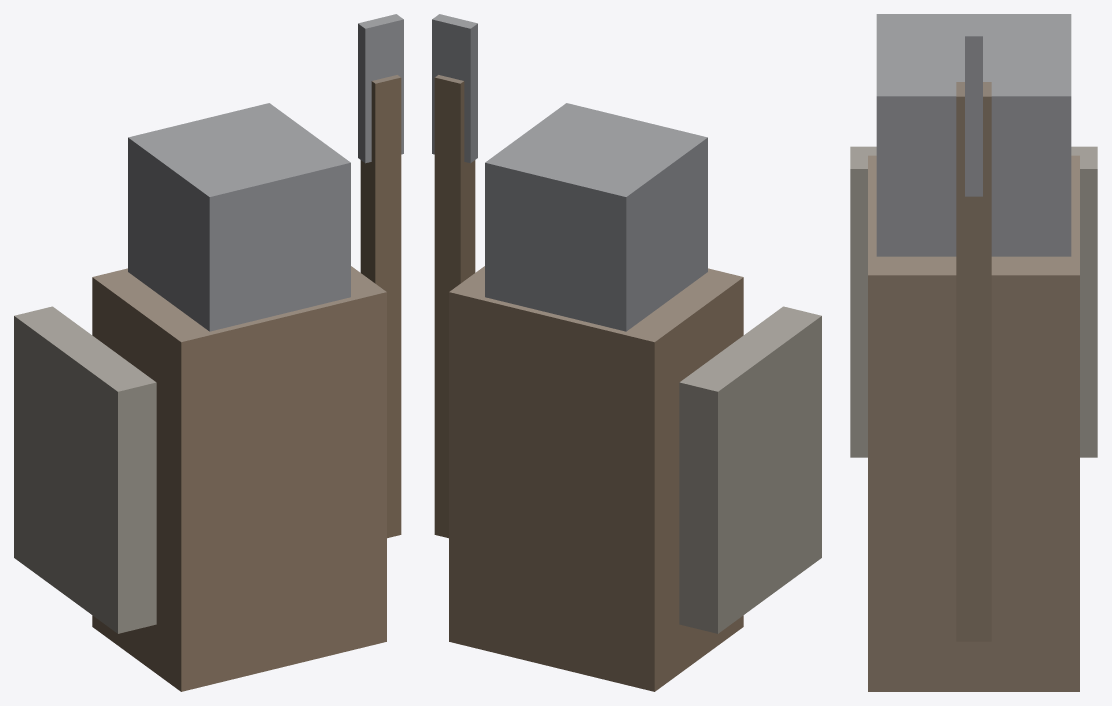
The model's file is infantry.gltf.
3 views of the same model, side by side, from view 1: azimuth 30°, elevation 25°; view 2: azimuth 150°, elevation 25°; view 3: azimuth 270°, elevation 25° (orthographic). The views are drawn at different scales.
Parts seen in each view (by area): view 1: unit-infantry; view 2: unit-infantry; view 3: unit-infantry.
Boxes of the visible parts, x1=… form: unit-infantry: x1=14, y1=14, x2=403, y2=691; unit-infantry: x1=432, y1=14, x2=821, y2=691; unit-infantry: x1=850, y1=14, x2=1097, y2=691.
Bounding box in the file's own units: 0.26 × 0.43 × 0.14.
